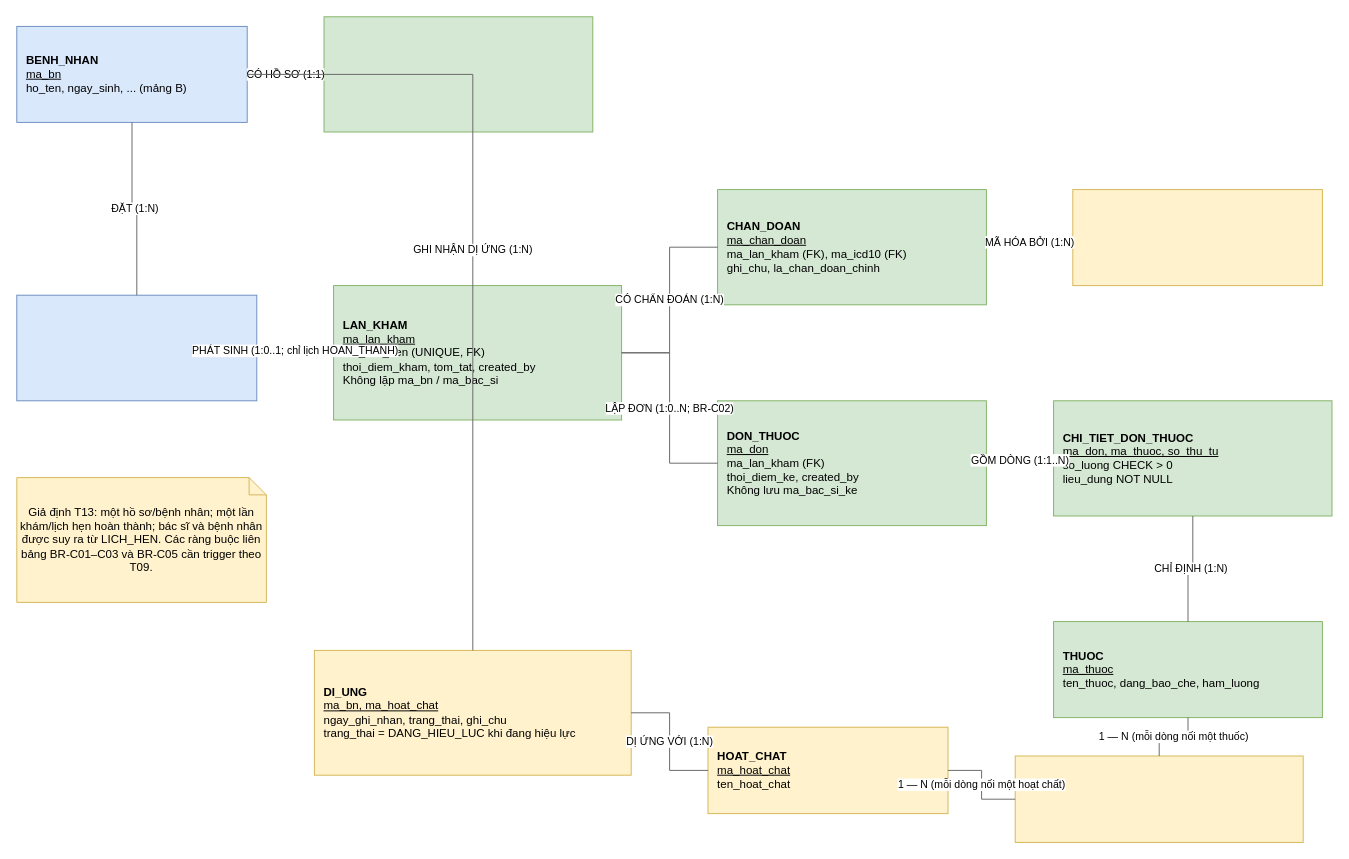
The diagram is 1349 pixels wide and 859 high, and some of its shapes have lost their labels. The centre of each missing label's shape, as x and y in pixels:
HO_SO_BENH_AN ma_hs ma_bn (UNIQUE, FK) ngay_tao, trang_thai, created_by: (x=458, y=74)
LICH_HEN ma_lich_hen ma_bn, ma_bac_si (mảng B/A) thoi_gian, trang_thai: (x=136, y=347)
MA_ICD10 ma_icd10 mo_ta, trang_thai (danh mục): (x=1197, y=237)
THUOC_HOAT_CHAT ma_thuoc, ma_hoat_chat ham_luong (nếu quản lý): (x=1158, y=798)
